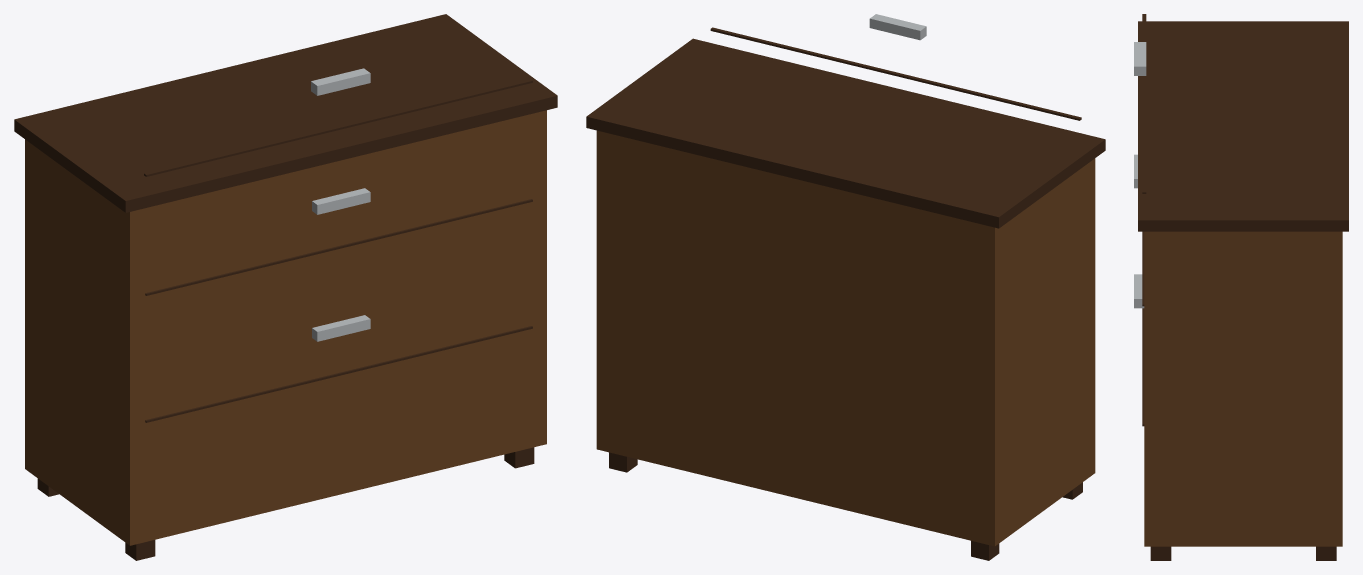
File: dresser.obj
3 views of the same model, side by side, from view 1: azimuth 30°, elevation 25°; view 2: azimuth 150°, elevation 25°; view 3: azimuth 270°, elevation 25° (orthographic). The views are drawn at different scales.
Parts seen in each view (by area): view 1: dresser_0, dresser_1, dresser_6, dresser_2, dresser_4, dresser_7, dresser_3, dresser_5; view 2: dresser_0, dresser_1, dresser_6, dresser_7; view 3: dresser_0, dresser_1, dresser_6, dresser_7, dresser_2, dresser_11, dresser_3, dresser_9.
Part boxes in pixels (x1=…): dresser_0: x1=25, y1=110, x2=546, y2=545; dresser_1: x1=14, y1=14, x2=557, y2=212; dresser_6: x1=144, y1=79, x2=532, y2=176; dresser_2: x1=145, y1=326, x2=532, y2=422; dresser_4: x1=145, y1=199, x2=532, y2=295; dresser_7: x1=311, y1=68, x2=370, y2=95; dresser_3: x1=312, y1=315, x2=370, y2=341; dresser_5: x1=312, y1=188, x2=370, y2=214; dresser_0: x1=596, y1=130, x2=1095, y2=546; dresser_1: x1=586, y1=38, x2=1105, y2=228; dresser_6: x1=710, y1=27, x2=1081, y2=120; dresser_7: x1=869, y1=14, x2=926, y2=40; dresser_0: x1=1144, y1=231, x2=1342, y2=546; dresser_1: x1=1138, y1=21, x2=1348, y2=231; dresser_6: x1=1142, y1=14, x2=1146, y2=193; dresser_7: x1=1134, y1=42, x2=1146, y2=75; dresser_2: x1=1142, y1=308, x2=1144, y2=426; dresser_11: x1=1150, y1=546, x2=1171, y2=560; dresser_3: x1=1134, y1=274, x2=1144, y2=308; dresser_9: x1=1316, y1=546, x2=1336, y2=560.
Bounding box in the file's own units: 1.14 × 1.11 × 0.52.
